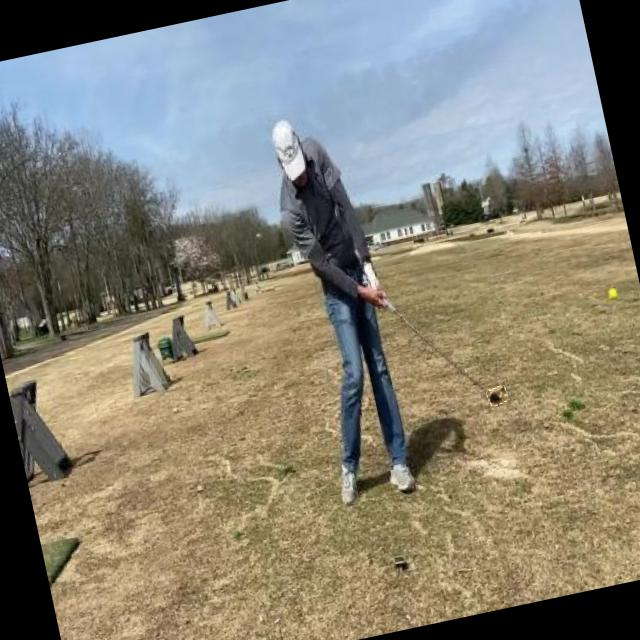club head: (486, 386, 508, 406)
